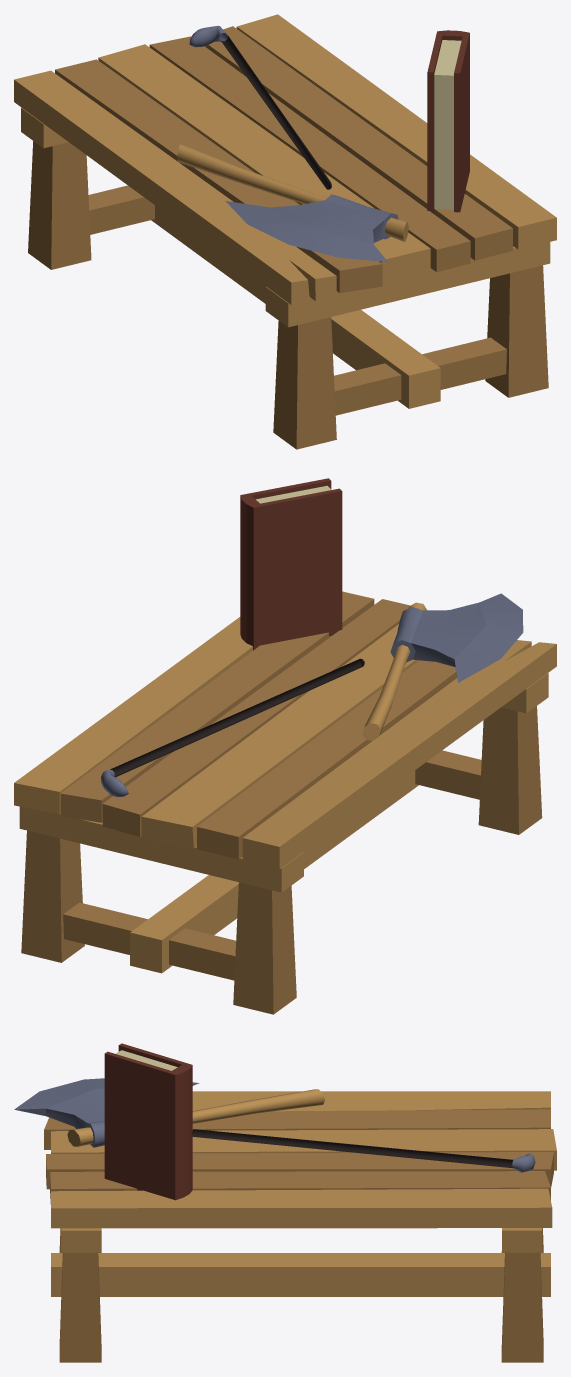
The model's file is Jeff Item.fbx.
The picture shows the model from 3 angles, top to bottom: view 1: azimuth 30°, elevation 25°; view 2: azimuth 150°, elevation 25°; view 3: azimuth 270°, elevation 25°; orthographic projection. The views are drawn at different scales.
Visible parts, largest first — view 1: Table Jeff, Axes, Book, Canne; view 2: Table Jeff, Book, Axes, Canne; view 3: Table Jeff, Book, Axes, Canne.
Boxes of the visible parts, x1,y1,x2,y2 form: Table Jeff: (14,14,556,449); Axes: (177,144,408,261); Book: (427,30,469,213); Canne: (189,26,331,189); Table Jeff: (14,591,556,1014); Book: (240,478,342,650); Axes: (362,593,523,740); Canne: (101,658,364,797); Table Jeff: (44,1091,556,1362); Book: (104,1043,192,1200); Axes: (14,1078,324,1147); Canne: (192,1129,535,1172).
Size of the model in its own units: 0.4551 by 0.5105 by 0.8938.
